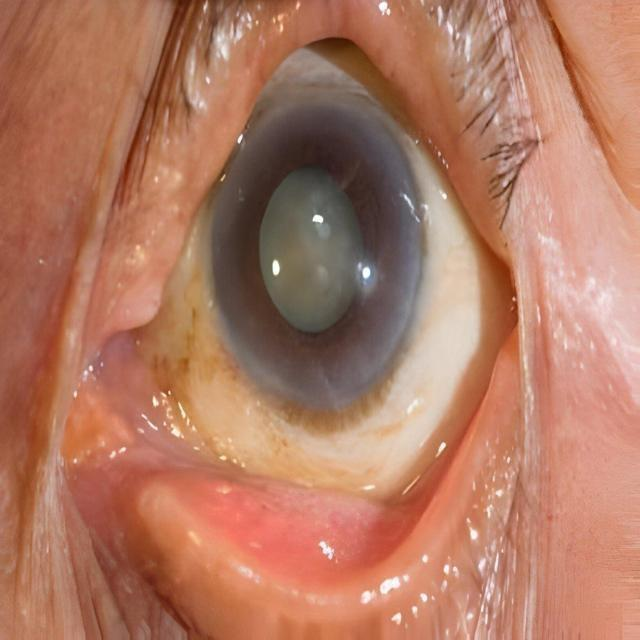Cataract: (203, 74, 434, 410)
